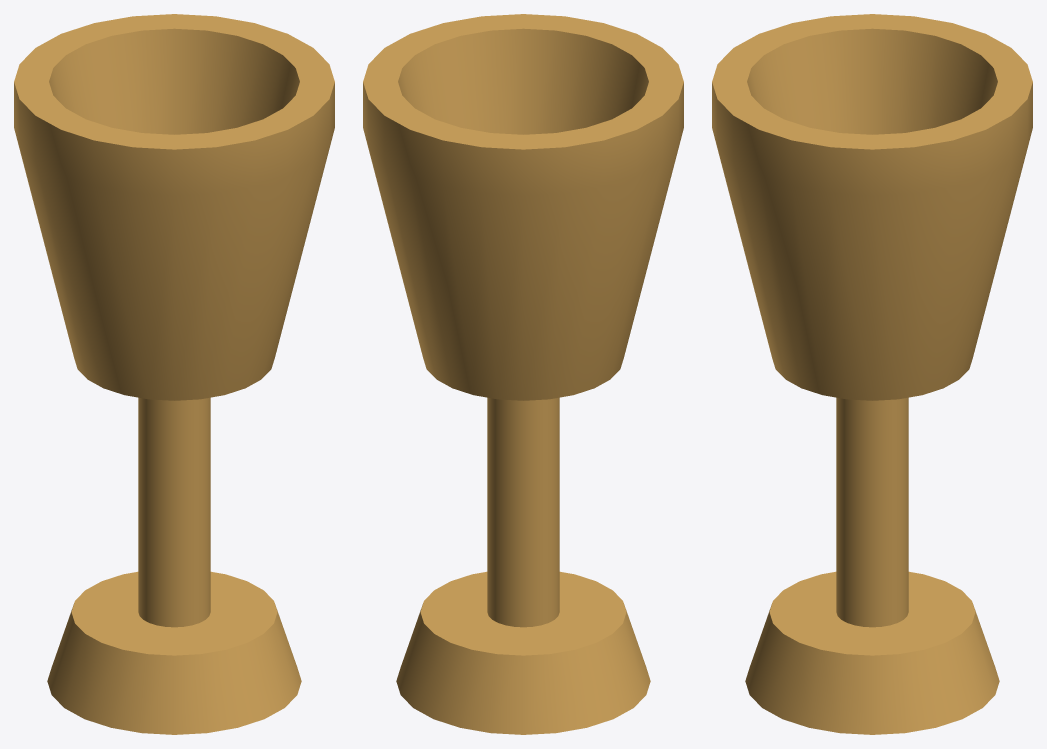
File: detailChalice.obj
The picture shows the model from 3 angles, left to right: view 1: azimuth 30°, elevation 25°; view 2: azimuth 150°, elevation 25°; view 3: azimuth 270°, elevation 25°; orthographic projection.
Visible parts, largest first — view 1: detailChalice; view 2: detailChalice; view 3: detailChalice.
Part boxes in pixels (x1,y1,x2,y2): detailChalice: [14, 14, 334, 734]; detailChalice: [363, 14, 683, 734]; detailChalice: [712, 14, 1032, 734].
Size of the model in its own units: 0.0968 by 0.1995 by 0.0968.
